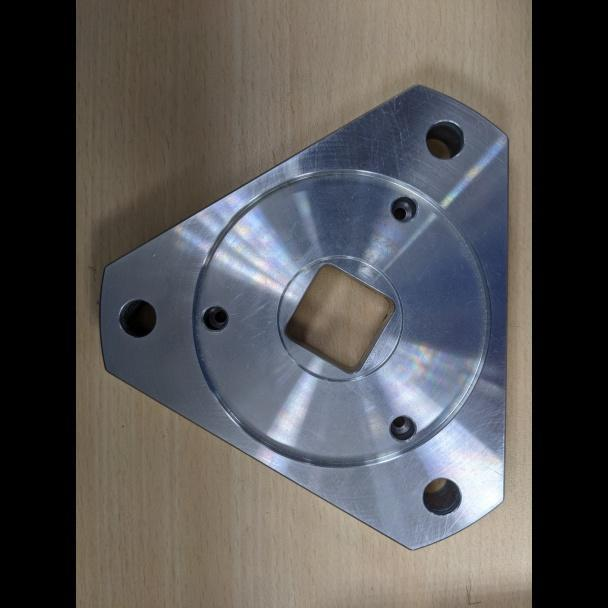hole: (108, 294, 164, 345), (422, 112, 472, 164), (415, 472, 467, 522), (384, 184, 428, 231), (189, 296, 237, 339), (382, 409, 422, 452)
